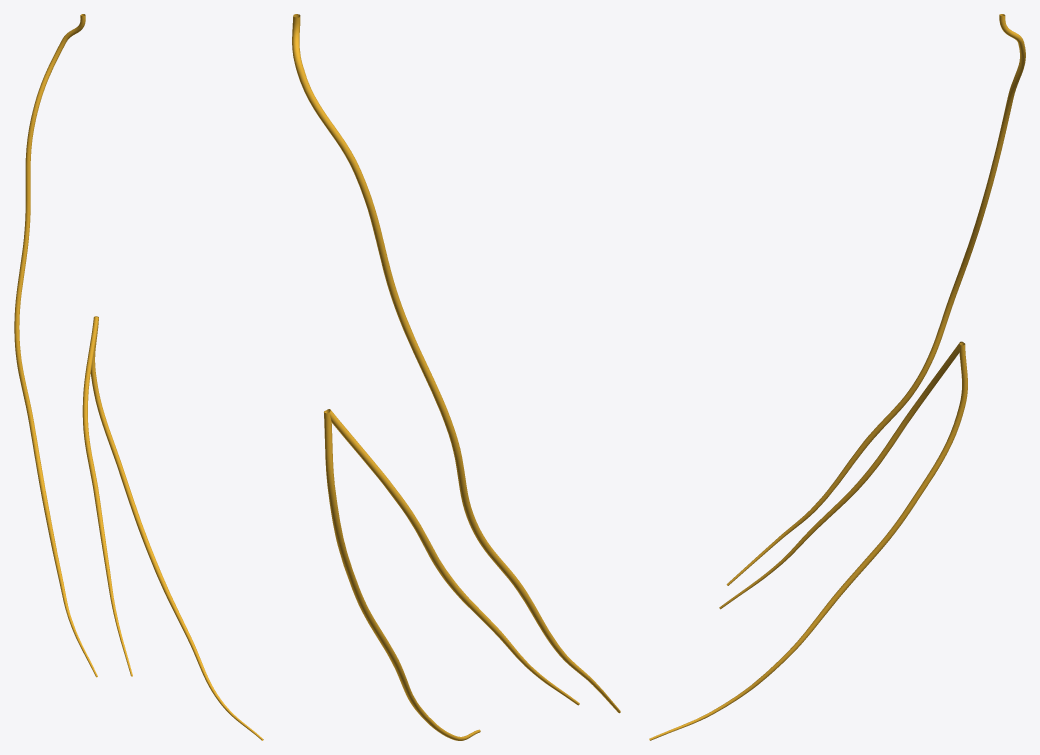
File: nervoso-proper-palmar-digital-branches-of-ulnar-nerve-l.glb
The picture shows the model from 3 angles, left to right: view 1: azimuth 30°, elevation 25°; view 2: azimuth 150°, elevation 25°; view 3: azimuth 270°, elevation 25°; orthographic projection. The views are drawn at different scales.
Visible parts, largest first — view 1: Proper palmar digital branches of ulnar nerve.l; view 2: Proper palmar digital branches of ulnar nerve.l; view 3: Proper palmar digital branches of ulnar nerve.l.
Part boxes in pixels (box(x1,y1,x2,y2)): Proper palmar digital branches of ulnar nerve.l: box(14, 14, 263, 740); Proper palmar digital branches of ulnar nerve.l: box(292, 14, 620, 740); Proper palmar digital branches of ulnar nerve.l: box(649, 14, 1025, 740).
Bounding box in the file's own units: 0.0303 × 0.1306 × 0.0627.
